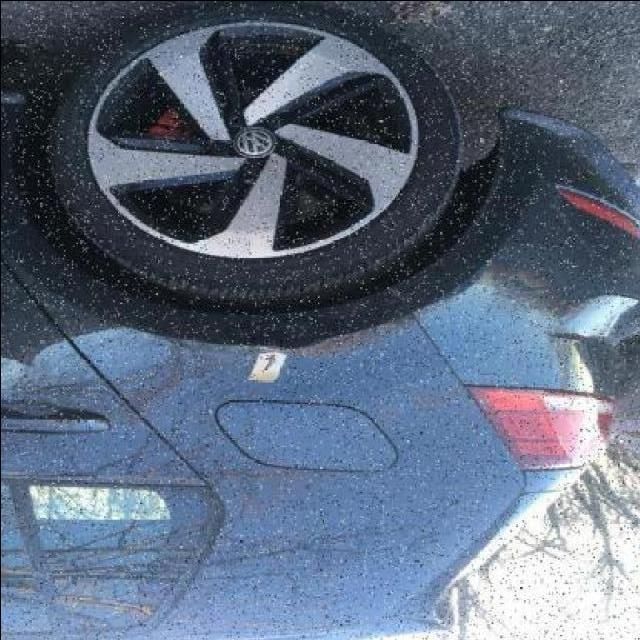quaterpanel-dent: (117, 220, 508, 507)
